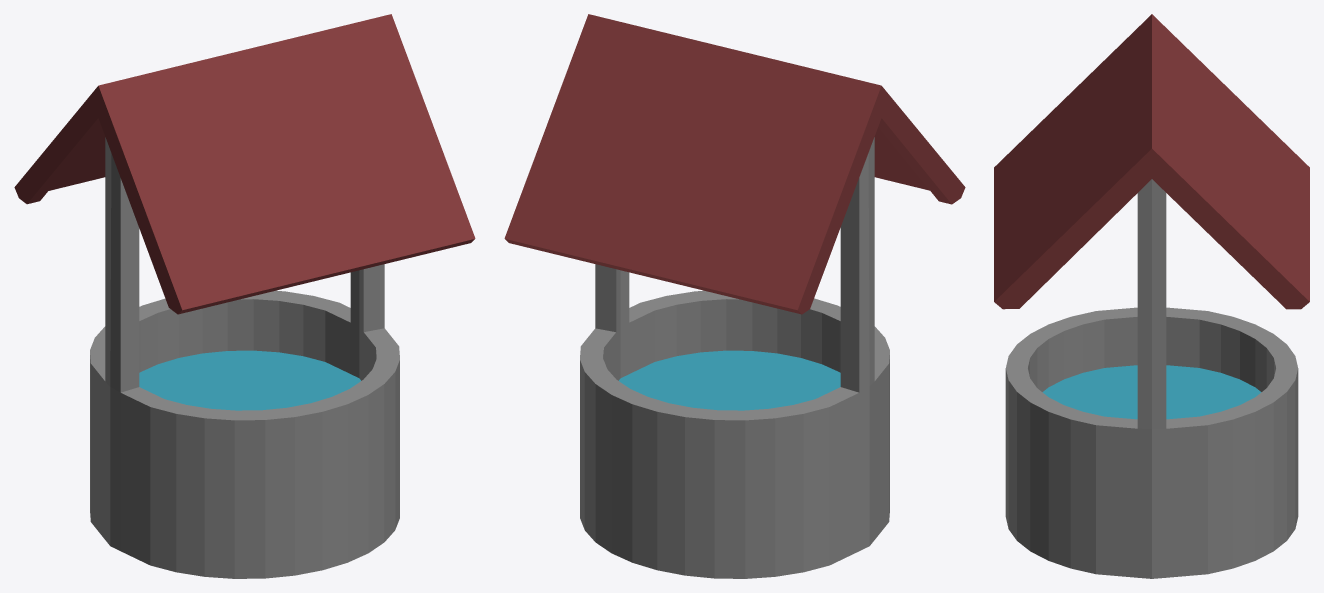
File: VilaNova_Well.fbx
3 views of the same model, side by side, from view 1: azimuth 30°, elevation 25°; view 2: azimuth 150°, elevation 25°; view 3: azimuth 270°, elevation 25° (orthographic). The views are drawn at different scales.
Parts seen in each view (by area): view 1: Well_LOD0; view 2: Well_LOD0; view 3: Well_LOD0.
Boxes of the visible parts, box(x1,y1,x2,y2) form: Well_LOD0: box(14, 14, 475, 578); Well_LOD0: box(504, 14, 965, 578); Well_LOD0: box(994, 14, 1309, 578).
Size of the model in its own units: 218 by 329 by 216.
